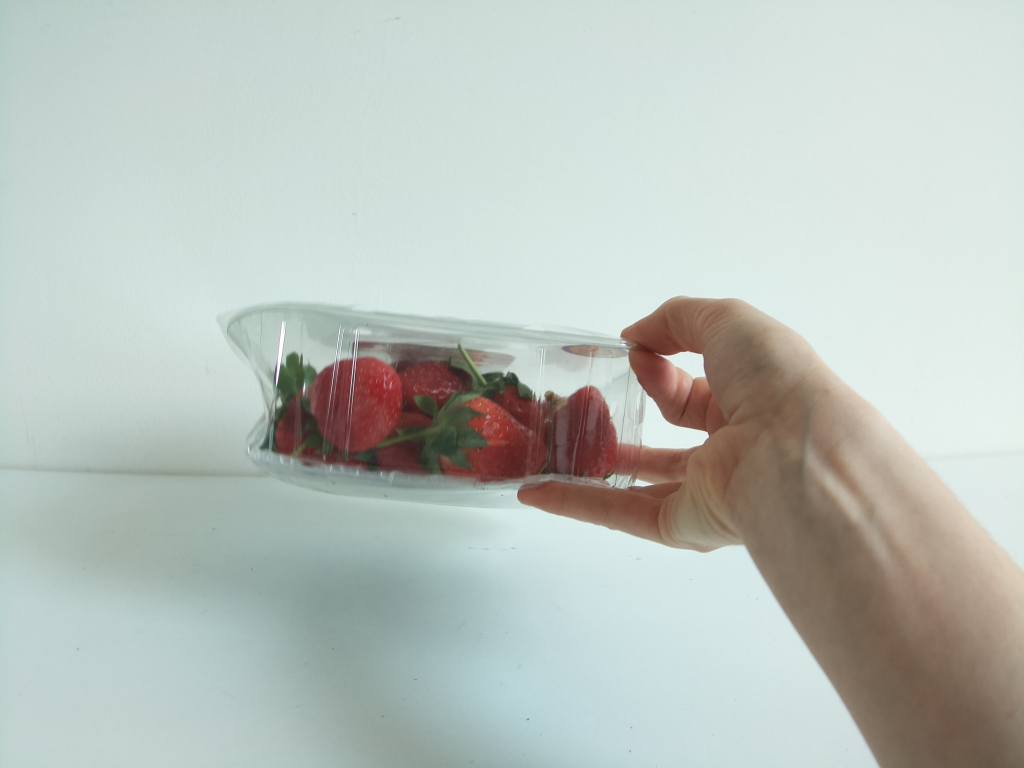soft-fruit: (217, 301, 677, 514)
